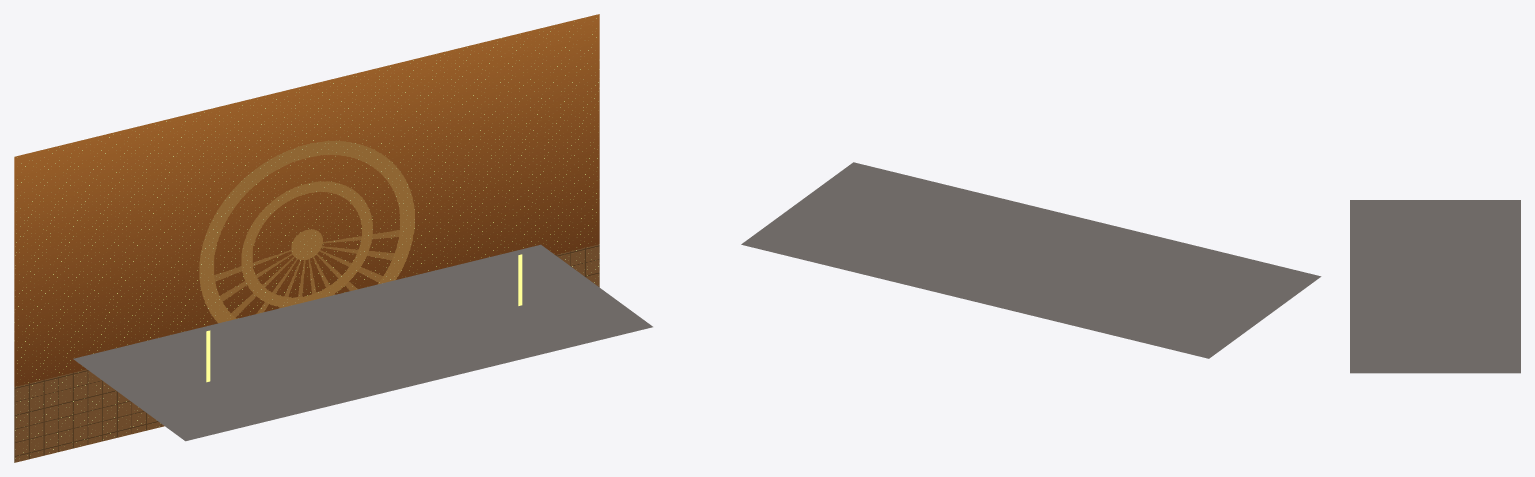
File: stage_kala_chakra_time.glb
3 views of the same model, side by side, from view 1: azimuth 30°, elevation 25°; view 2: azimuth 150°, elevation 25°; view 3: azimuth 270°, elevation 25° (orthographic). The views are drawn at different scales.
Visible parts, largest first — view 1: FOF_StageBackdrop, FOF_FightingFloor; view 2: FOF_FightingFloor; view 3: FOF_FightingFloor.
Part boxes in pixels (x1,y1,x2,y2): FOF_StageBackdrop: (14,14,599,462); FOF_FightingFloor: (73,244,652,441); FOF_FightingFloor: (741,162,1321,358); FOF_FightingFloor: (1350,200,1520,373).
Size of the model in its own units: 60 by 30 by 20.
3 materials, 1 textured.
